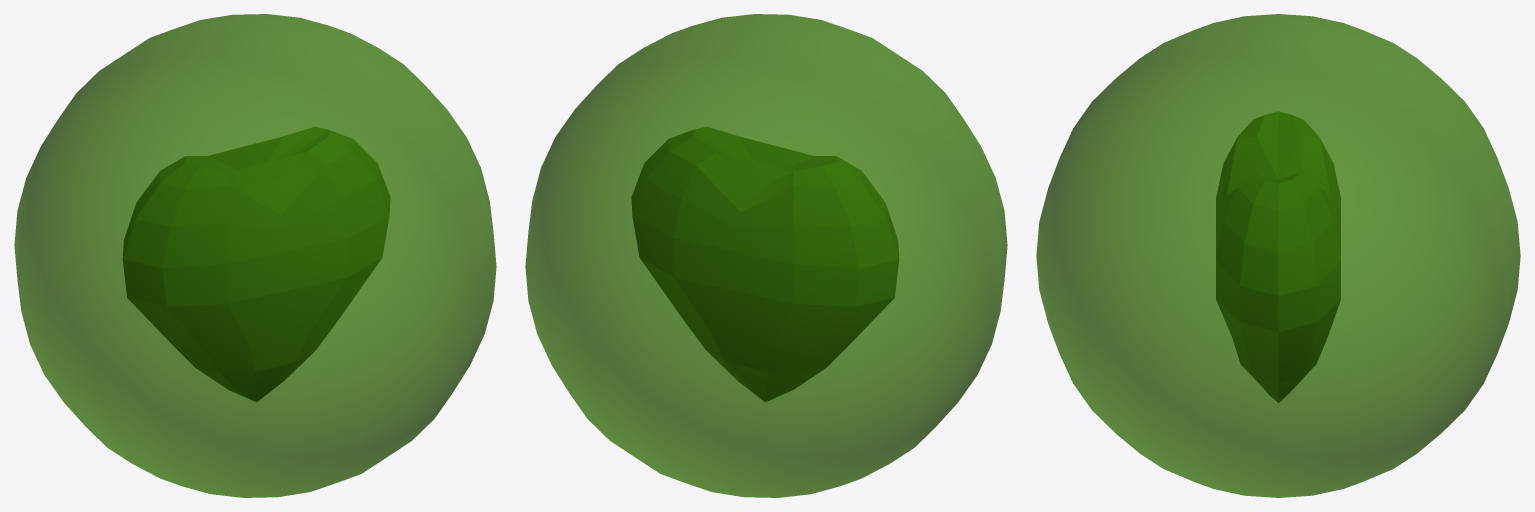
File: LifeOrbExpo4.fbx
The picture shows the model from 3 angles, left to right: view 1: azimuth 30°, elevation 25°; view 2: azimuth 150°, elevation 25°; view 3: azimuth 270°, elevation 25°; orthographic projection.
Visible parts, largest first — view 1: pSphere1, pSphere2; view 2: pSphere1, pSphere2; view 3: pSphere1, pSphere2.
Boxes of the visible parts, x1=… form: pSphere1: x1=14, y1=14, x2=496, y2=497; pSphere2: x1=122, y1=126, x2=390, y2=402; pSphere1: x1=525, y1=14, x2=1007, y2=497; pSphere2: x1=631, y1=126, x2=899, y2=402; pSphere1: x1=1036, y1=14, x2=1520, y2=497; pSphere2: x1=1216, y1=111, x2=1340, y2=402.
Bounding box in the file's own units: 2.86 × 2.86 × 2.86.
